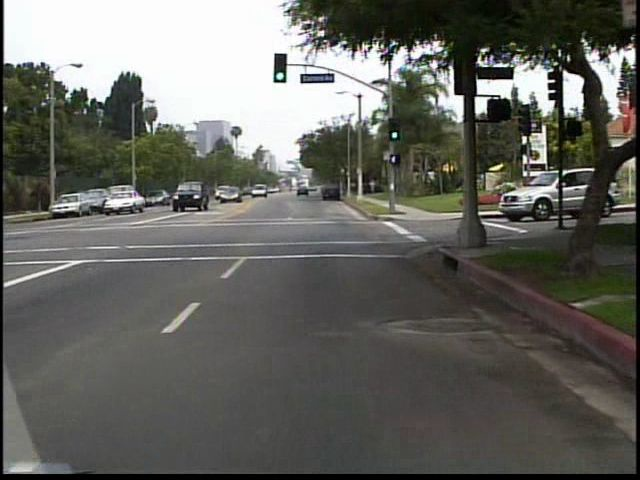person: (361, 175, 370, 199), (370, 175, 379, 195)
